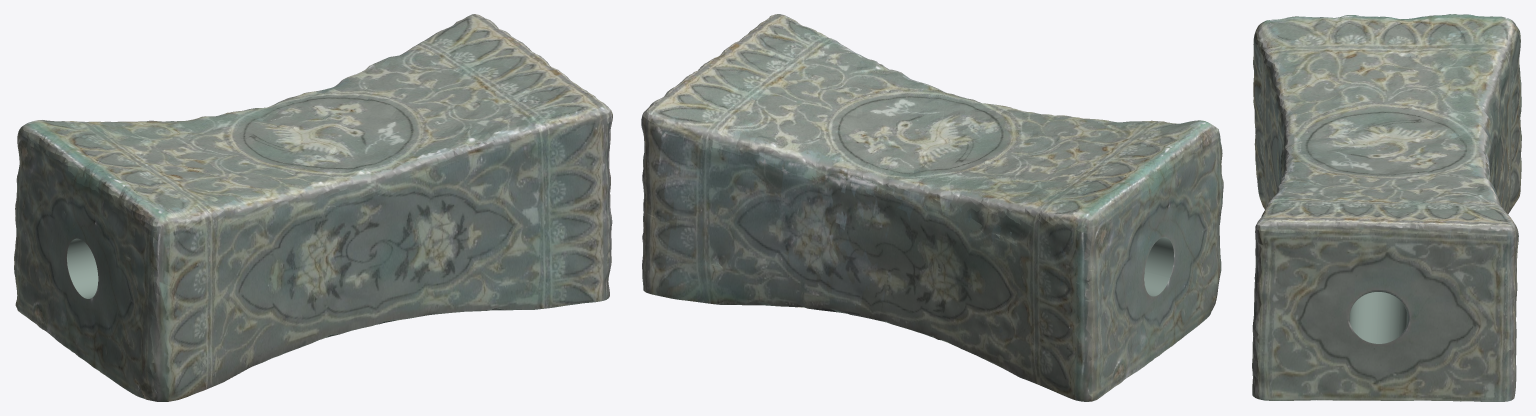
The model's file is celadon-pillow-reconstruction.glb.
The picture shows the model from 3 angles, left to right: view 1: azimuth 30°, elevation 25°; view 2: azimuth 150°, elevation 25°; view 3: azimuth 270°, elevation 25°; orthographic projection. The views are drawn at different scales.
Parts seen in each view (by area): view 1: Pillow · camera-calibrated photo reconstruction; view 2: Pillow · camera-calibrated photo reconstruction; view 3: Pillow · camera-calibrated photo reconstruction.
Part boxes in pixels (x1,y1,x2,y2): Pillow · camera-calibrated photo reconstruction: [14, 14, 612, 401]; Pillow · camera-calibrated photo reconstruction: [641, 14, 1223, 401]; Pillow · camera-calibrated photo reconstruction: [1252, 14, 1521, 401].
Bounding box in the file's own units: 2.2 × 0.8527 × 1.17.
2 materials, 2 textured.
